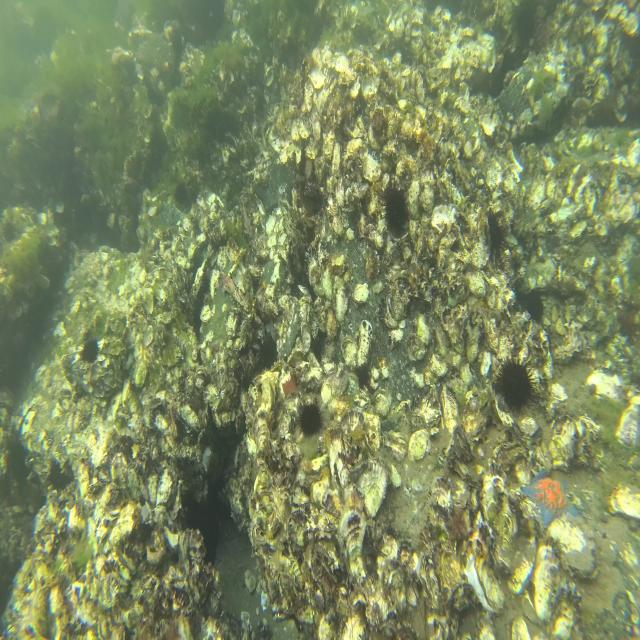echinus: (492, 352, 542, 418), (378, 177, 414, 237), (484, 206, 508, 269), (296, 393, 326, 441), (41, 453, 74, 495), (514, 284, 547, 325), (76, 331, 103, 369), (172, 180, 191, 208)
starfish: (518, 466, 581, 527), (525, 65, 559, 103)
